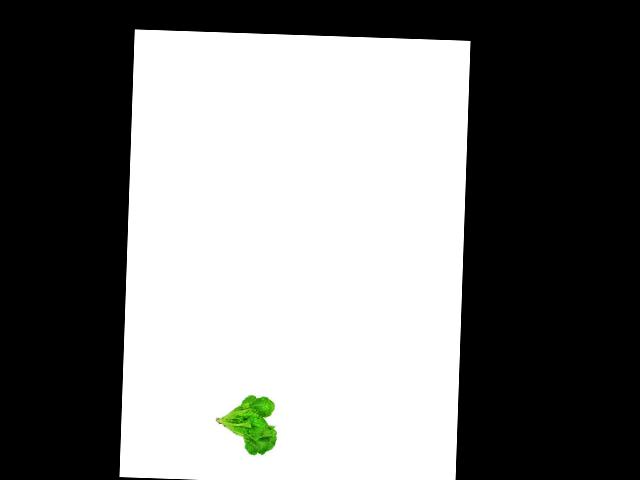lettuce: (213, 391, 281, 459)
